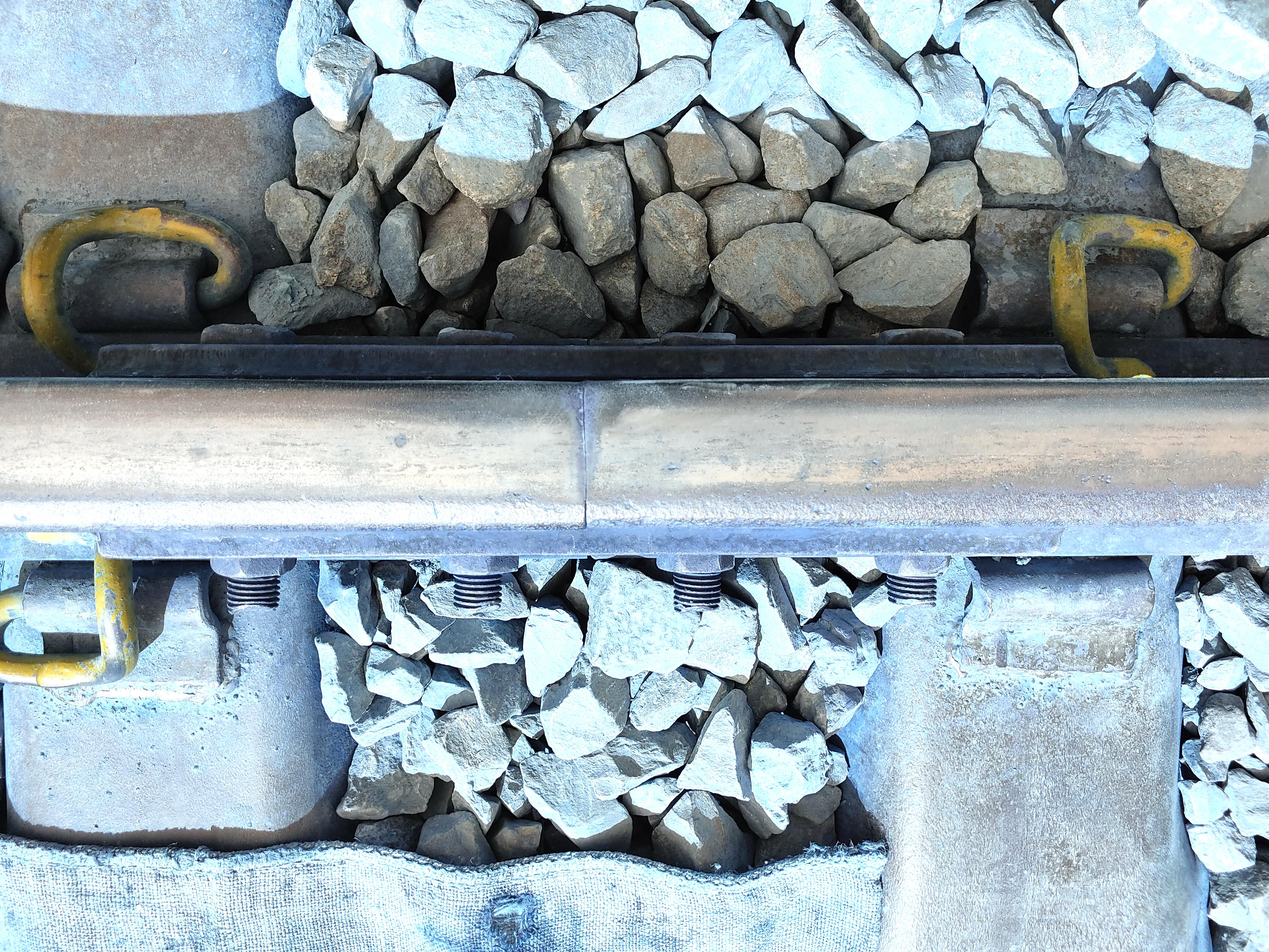Poor contact: (27, 204, 255, 382), (6, 537, 193, 708), (1052, 208, 1209, 386)
duan lie: (565, 367, 628, 524)
loss: (950, 547, 1157, 680)
